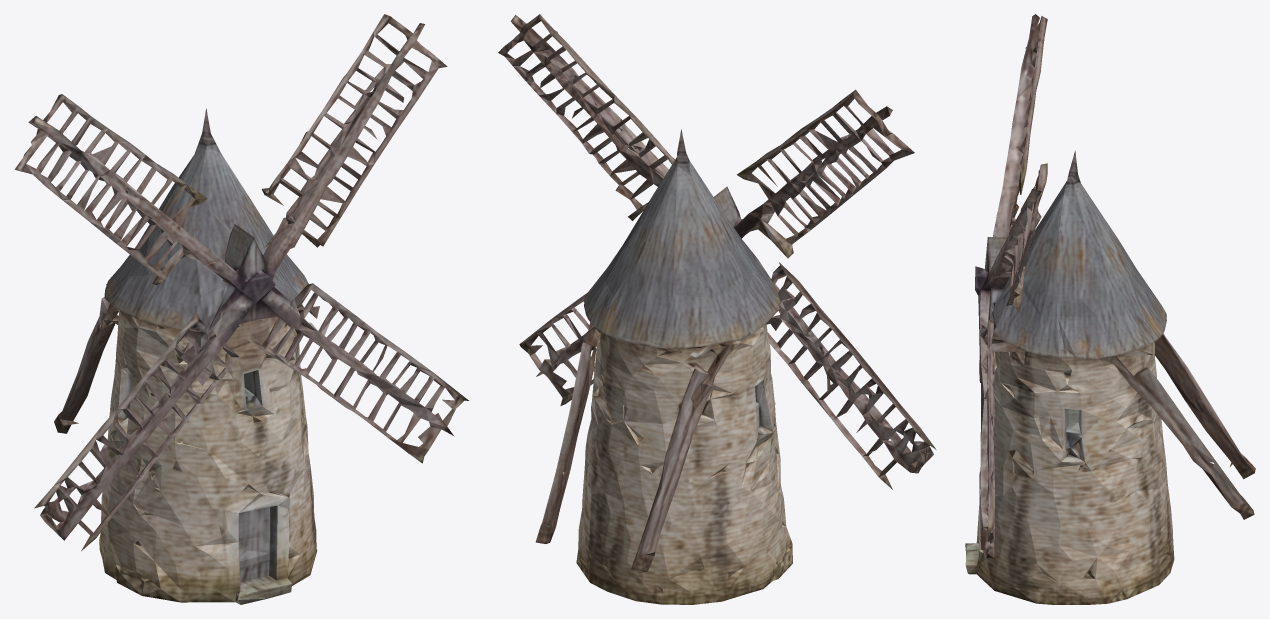
Rendered from windmill.obj.
3 views of the same model, side by side, from view 1: azimuth 30°, elevation 25°; view 2: azimuth 150°, elevation 25°; view 3: azimuth 270°, elevation 25° (orthographic). The views are drawn at different scales.
Parts seen in each view (by area): view 1: windmill; view 2: windmill; view 3: windmill.
Part boxes in pixels (x1,y1,x2,y2): windmill: (14, 14, 468, 604); windmill: (498, 14, 936, 604); windmill: (965, 14, 1255, 604).
Size of the model in its own units: 11.43 by 13 by 7.2.
Materials: 1 (1 with a texture image).
